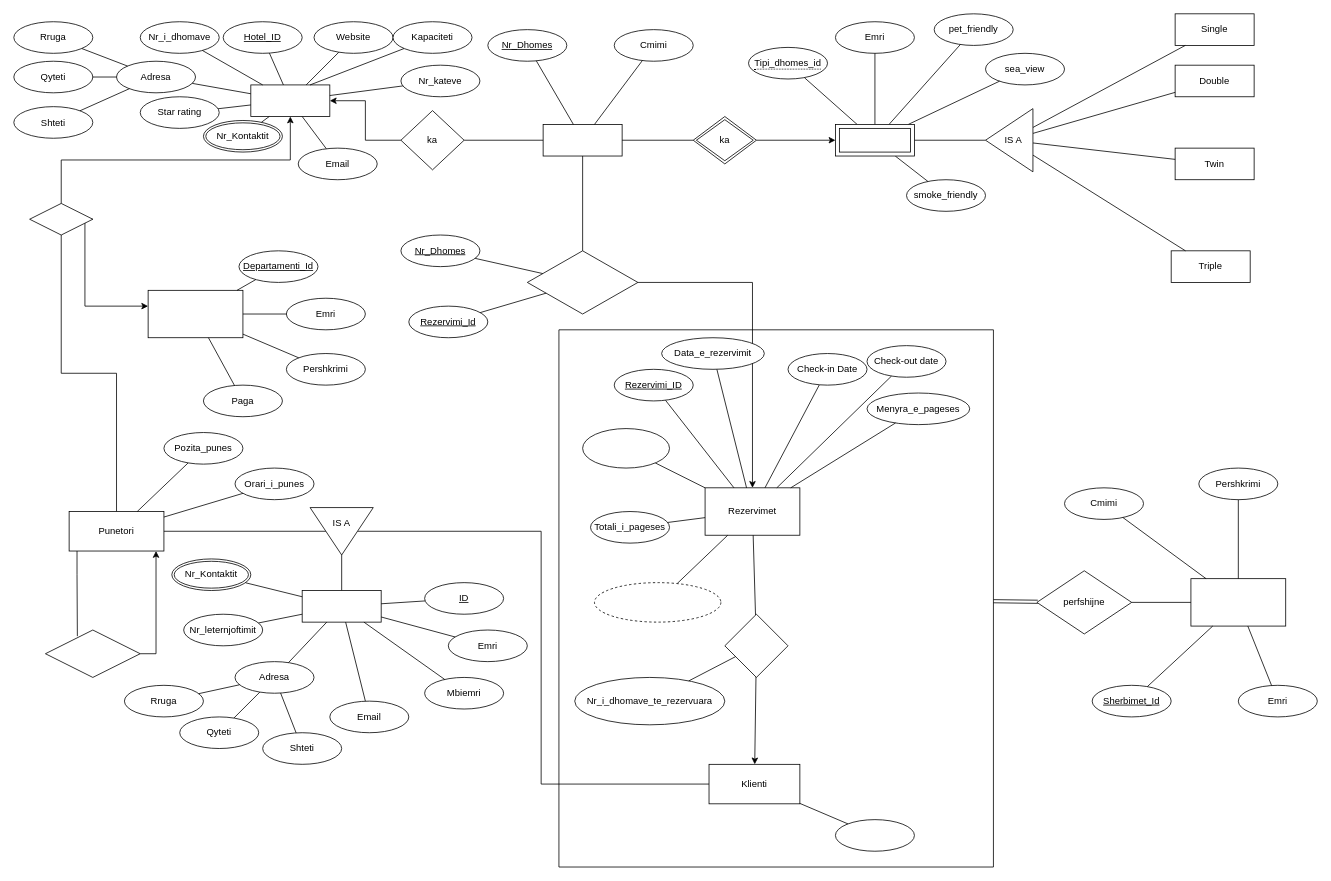
The diagram is 1331 pixels wide and 881 high, and some of its shapes have lost their labels. The shapes that lost their labels are listed below. From the top down, each one's box as (x1, y1, x2, y2) in pixels, then its label:
(250, 84, 330, 117): Hoteli
(542, 124, 622, 156): Dhoma
(835, 124, 914, 156): Tipi_Dhomes
(29, 203, 93, 235): punon
(527, 250, 638, 314): dhomat_e_rezervuara
(147, 290, 243, 338): Departamenti
(582, 428, 670, 468): Statusi_i_pageses
(301, 590, 381, 622): Personi
(594, 582, 721, 622): Kohezgjatja_e_qendrimit
(1190, 578, 1286, 626): Sherbimet_e_Hotelit
(45, 629, 140, 677): Menaxhon
(724, 613, 788, 677): kryen
(835, 819, 914, 851): Credit_card
